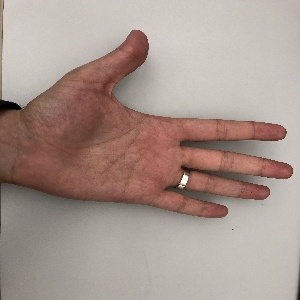hand: (23, 29, 293, 221)
